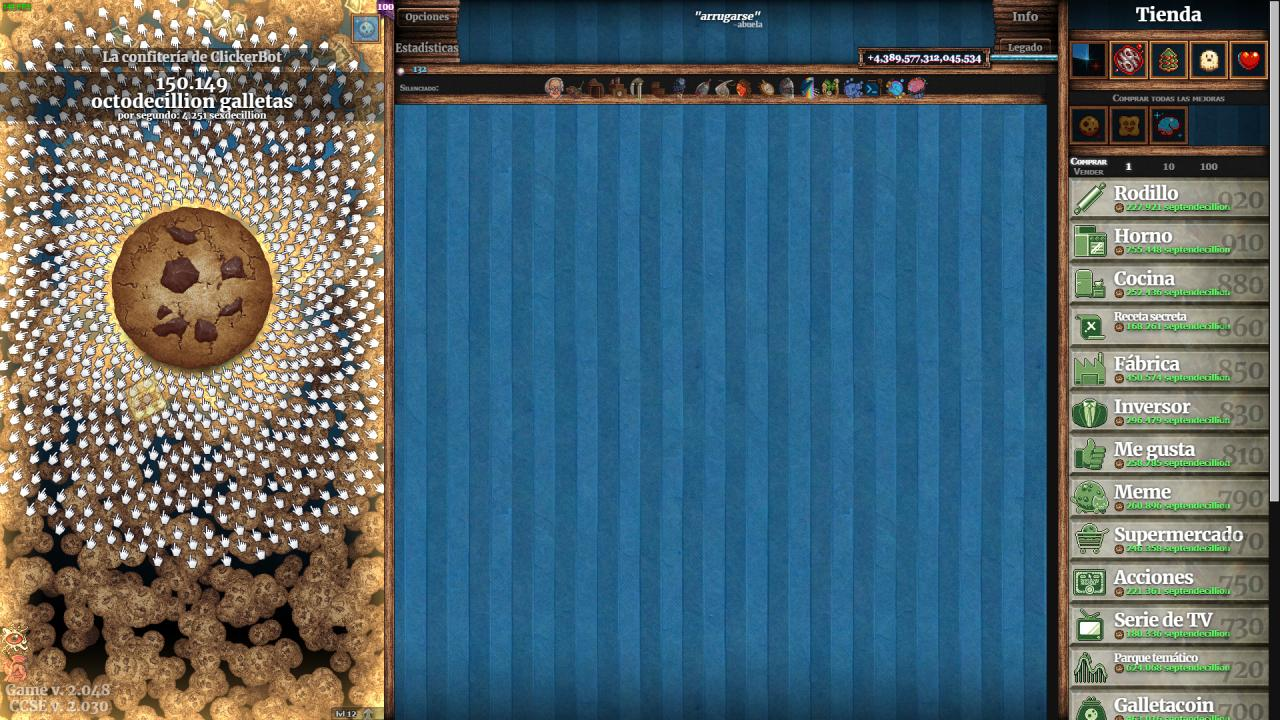GoldenCartridge: (122, 374, 170, 423)
